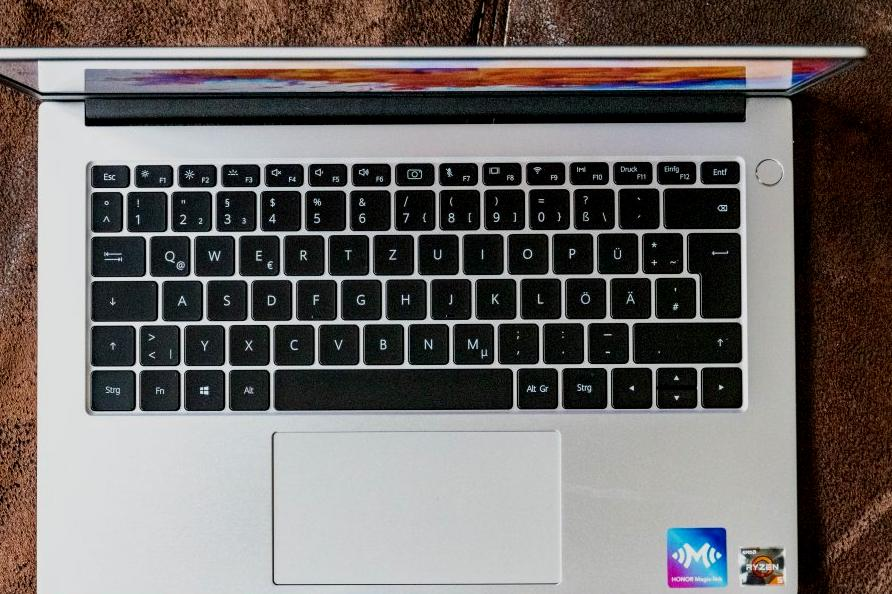0: (526, 186, 569, 229)
1: (125, 189, 166, 232)
2: (169, 188, 210, 231)
3: (213, 188, 255, 230)
4: (259, 189, 301, 231)
5: (303, 188, 345, 231)
6: (348, 188, 390, 231)
7: (393, 187, 434, 230)
8: (437, 187, 479, 230)
9: (482, 186, 524, 229)
a: (160, 278, 202, 320)
accent: (616, 185, 658, 228)
ae: (608, 275, 650, 318)
alt-left: (227, 369, 268, 411)
altgr-right: (514, 366, 557, 408)
b: (361, 321, 403, 364)
c: (271, 322, 314, 365)
caret: (89, 189, 122, 231)
comma: (495, 320, 538, 363)
d: (249, 277, 291, 320)
del: (661, 185, 739, 228)
e: (236, 232, 279, 276)
enter: (686, 230, 740, 318)
f: (294, 277, 335, 319)
g: (339, 277, 380, 319)
h: (383, 276, 426, 319)
hash: (652, 275, 695, 318)
i: (460, 230, 502, 273)
j: (428, 275, 470, 318)
k: (473, 275, 515, 319)
keyboard: (78, 155, 756, 421)
l: (518, 275, 560, 318)
less: (136, 321, 179, 365)
m: (450, 320, 493, 364)
minus: (585, 320, 627, 362)
n: (406, 321, 449, 364)
o: (505, 230, 547, 273)
oe: (563, 275, 605, 318)
p: (550, 230, 592, 273)
plus: (640, 229, 682, 272)
point: (540, 320, 583, 362)
q: (147, 232, 190, 276)
r: (281, 232, 323, 275)
s: (205, 278, 246, 320)
shift-left: (87, 323, 134, 366)
shift-lock: (89, 278, 157, 320)
shift-right: (631, 319, 741, 362)
space: (270, 367, 513, 409)
ss: (571, 186, 613, 228)
strg-left: (88, 368, 135, 411)
strg-right: (560, 365, 607, 408)
t: (326, 231, 368, 275)
tab: (88, 233, 145, 277)
u: (415, 231, 458, 275)
ue: (594, 229, 637, 273)
v: (315, 321, 359, 365)
w: (192, 232, 234, 276)
x: (226, 322, 268, 366)
y: (182, 322, 224, 366)
z: (370, 232, 413, 274)
